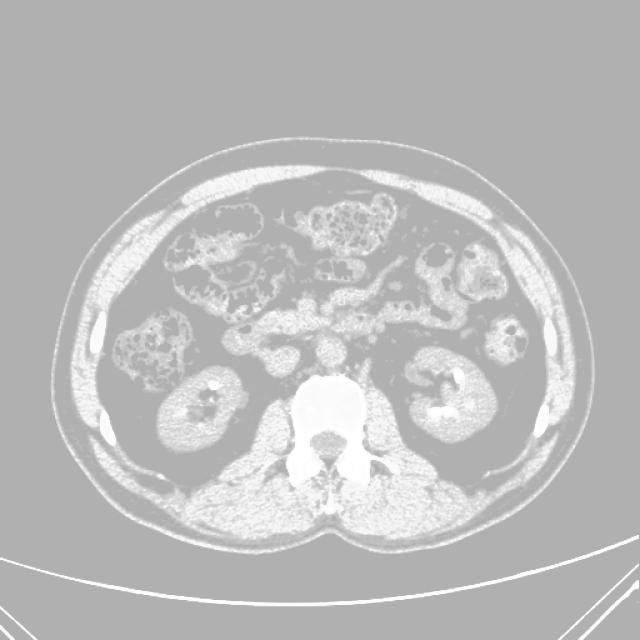STONE: (147, 287, 512, 475)
